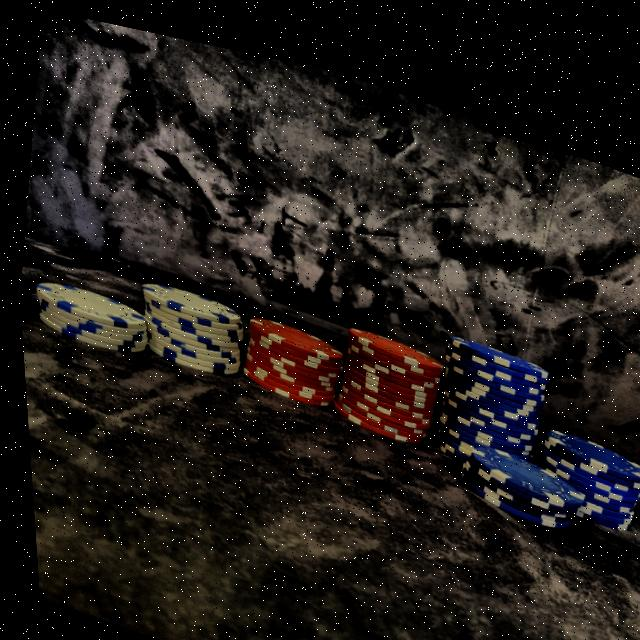Chip: (423, 305, 554, 477), (326, 294, 451, 449), (120, 252, 259, 390), (521, 387, 640, 529), (441, 408, 586, 523), (29, 251, 162, 372), (235, 290, 347, 416)
